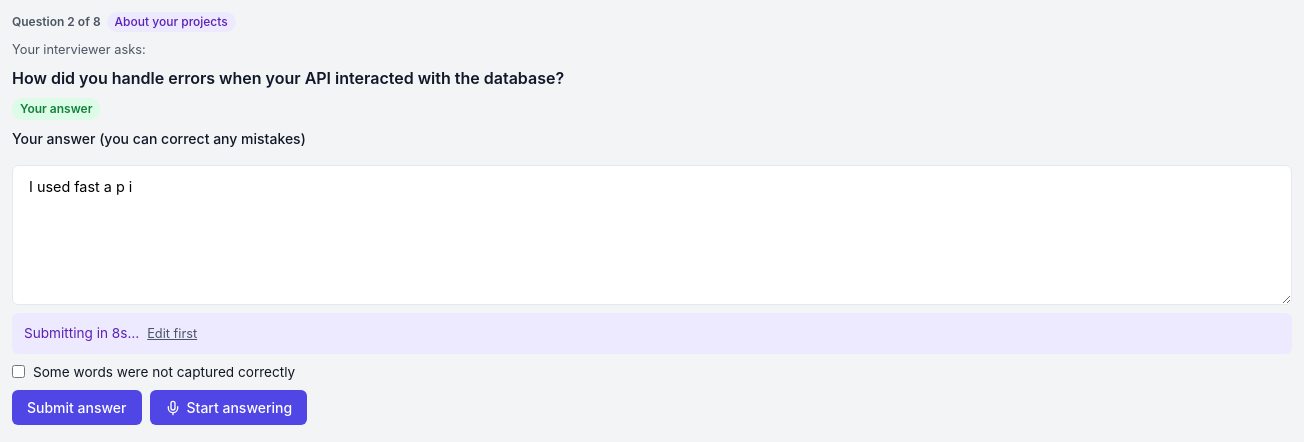
Test: CandidateQuestionPanel › lets the candidate review and correct a transcript before submitting
Check: the text box labelled "Your answer (you can correct any mistakes)" holds "I used fast a p i", box 12,165 -> 1292,305
Check: the text "Submitting in 8s… Edit first" is shown, box 12,313 -> 1292,354
Click the button "Edit first". click: (172, 334)
box: 147,326 -> 197,341
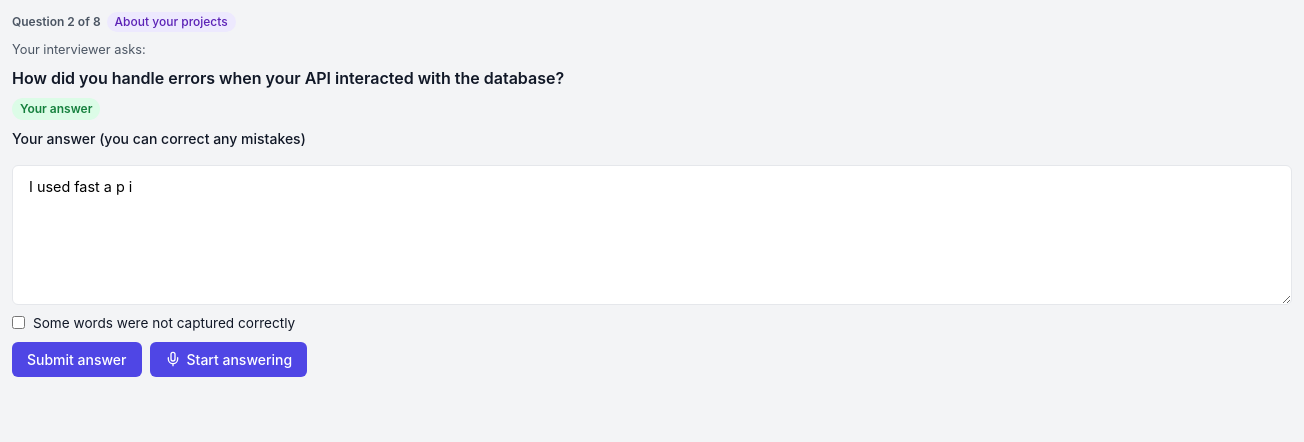
Check: the checkbox labelled "Some words were not captured correctly" is shown, box 12,316 -> 25,329
Check: the text "Submitting in" is gone
